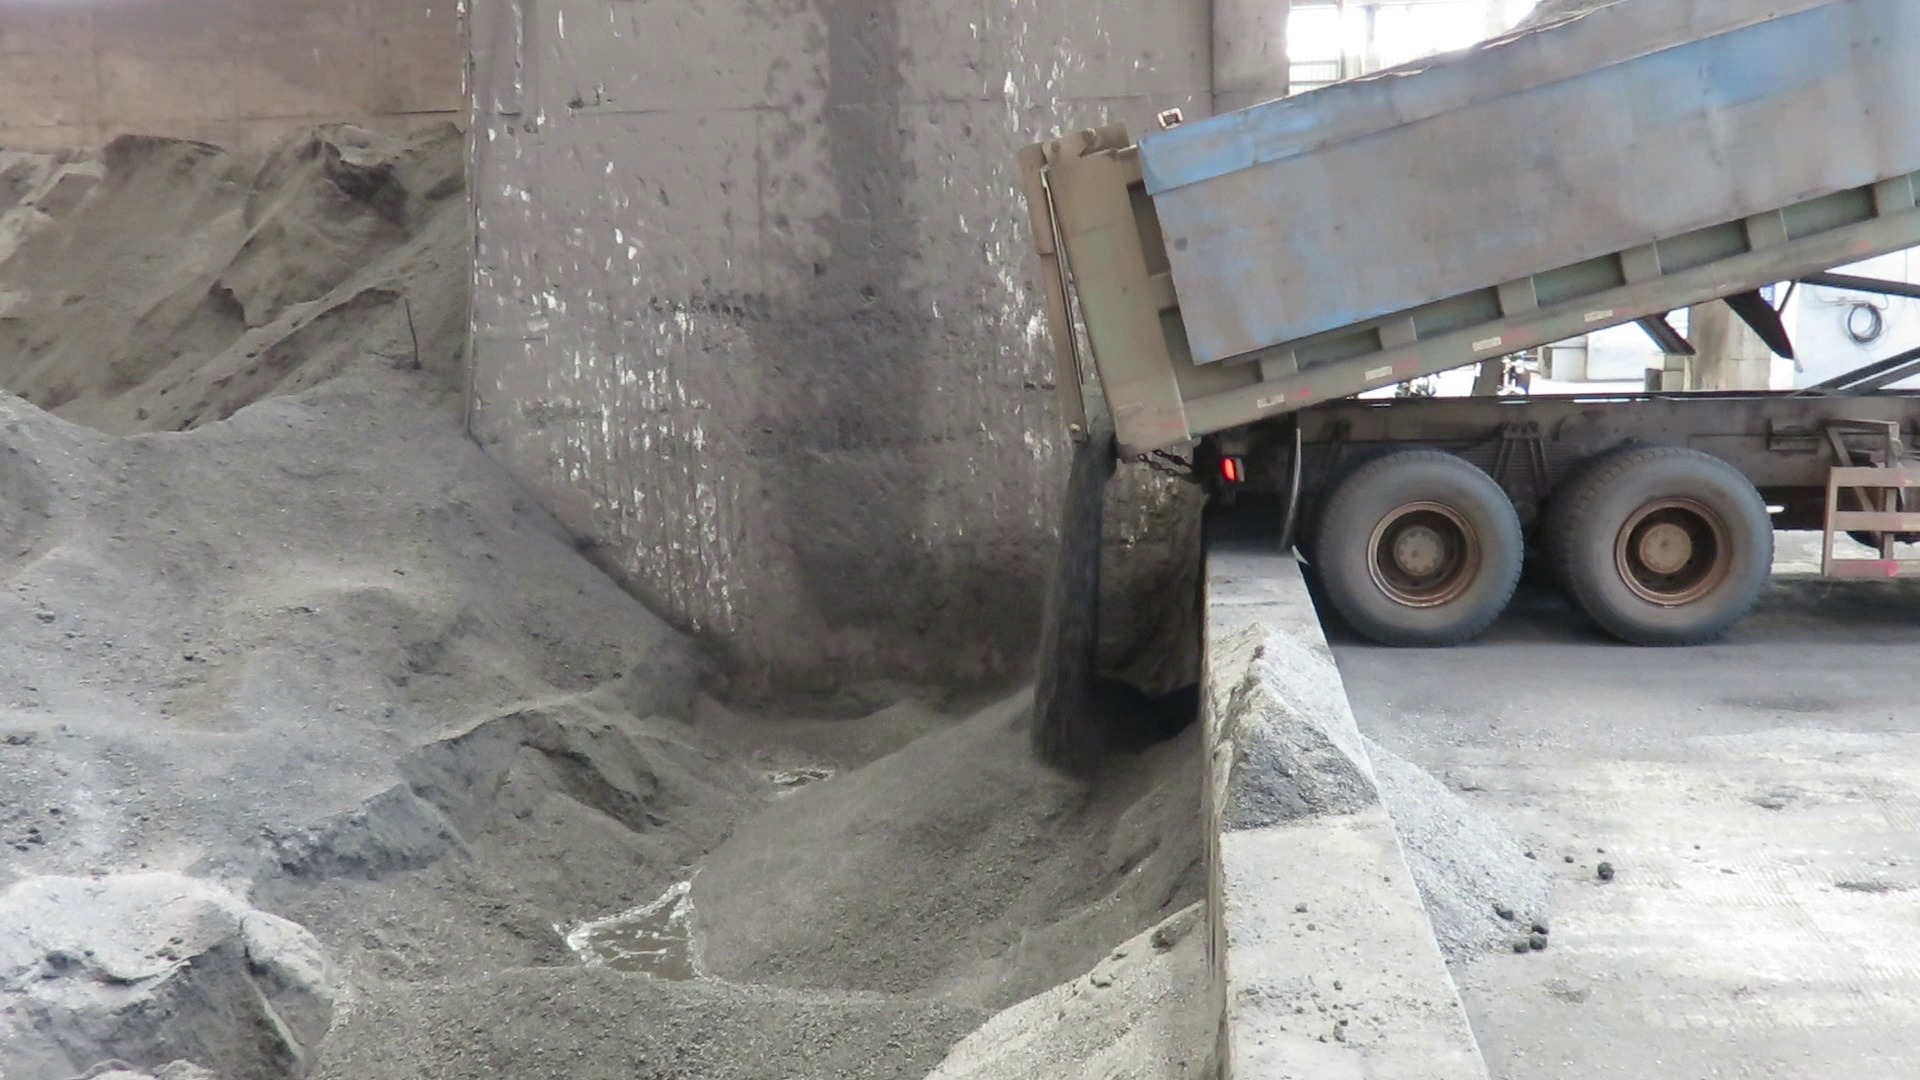truck: (1025, 0, 1920, 650)
